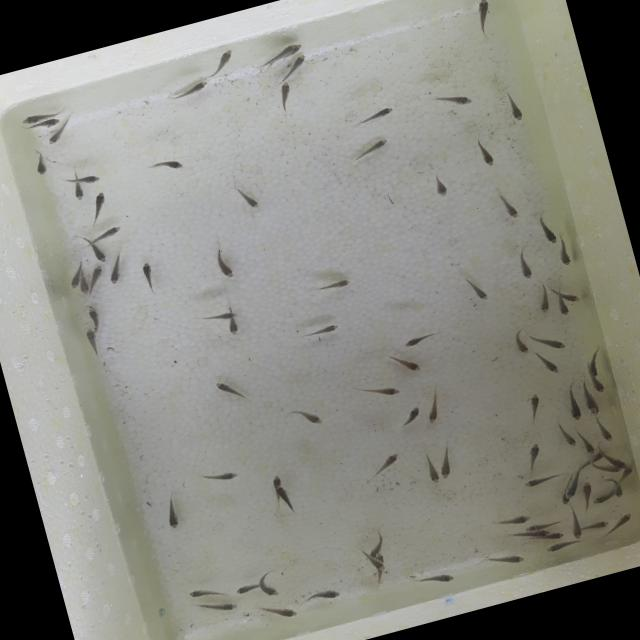fingerling: (418, 384, 451, 428), (350, 135, 396, 166), (389, 348, 432, 380), (365, 449, 404, 484), (255, 596, 299, 626), (157, 494, 188, 536), (358, 380, 408, 406), (486, 508, 536, 534), (466, 0, 501, 36), (208, 41, 239, 78), (276, 54, 314, 84), (461, 272, 494, 306), (234, 182, 264, 218), (209, 374, 245, 404), (354, 104, 398, 128), (520, 468, 564, 492), (482, 547, 526, 571), (186, 582, 228, 607), (260, 40, 300, 66), (394, 404, 428, 434), (172, 78, 214, 102), (14, 108, 64, 128), (434, 444, 461, 481), (288, 403, 326, 429), (534, 327, 570, 354), (544, 534, 590, 555), (102, 254, 132, 286), (442, 86, 477, 113), (136, 258, 162, 294), (502, 86, 526, 125), (418, 452, 443, 489), (84, 188, 112, 221), (397, 329, 443, 349), (551, 237, 578, 271), (145, 155, 186, 177), (90, 222, 129, 245), (298, 320, 340, 341), (202, 466, 242, 488), (304, 584, 344, 606), (533, 212, 558, 246), (316, 272, 354, 294), (418, 568, 456, 590), (204, 596, 242, 618), (210, 249, 236, 281), (522, 391, 547, 424), (510, 326, 536, 357), (22, 115, 64, 134), (560, 470, 585, 501), (474, 138, 498, 170), (592, 412, 616, 444), (513, 523, 551, 543), (565, 504, 586, 540), (562, 389, 584, 423), (258, 569, 282, 600), (42, 124, 72, 148), (80, 326, 104, 356), (524, 440, 546, 472), (607, 512, 636, 536), (274, 79, 296, 110), (427, 172, 453, 198), (582, 353, 605, 382), (603, 446, 628, 472), (83, 238, 106, 266), (533, 284, 553, 316), (580, 478, 600, 510), (514, 252, 536, 281), (526, 516, 564, 532), (580, 380, 598, 412), (556, 422, 578, 448), (272, 483, 293, 510), (580, 517, 612, 534), (72, 168, 102, 186), (498, 192, 517, 220), (86, 302, 104, 331), (63, 264, 83, 290), (31, 152, 49, 180), (233, 580, 260, 598), (87, 263, 107, 287), (204, 309, 236, 324), (554, 286, 570, 316), (538, 354, 560, 375), (580, 431, 598, 456), (589, 488, 614, 506), (540, 528, 570, 543), (614, 464, 636, 484), (365, 550, 385, 572), (76, 270, 92, 296), (586, 377, 608, 394), (223, 316, 241, 335), (266, 474, 286, 491), (72, 178, 85, 204), (610, 477, 624, 499), (562, 290, 580, 303)
